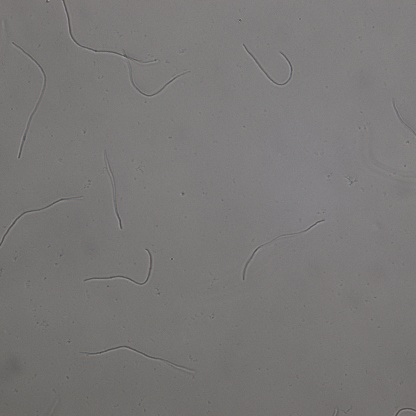Sensitive: (62, 1, 158, 64), (243, 220, 323, 279), (1, 196, 83, 250), (12, 41, 46, 158), (80, 346, 195, 374), (127, 48, 190, 96), (84, 246, 154, 285), (244, 42, 293, 86), (103, 148, 123, 228)
